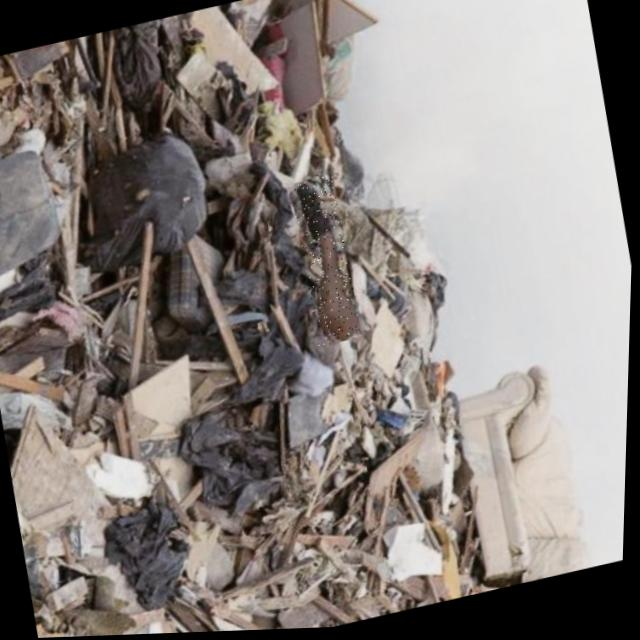Person in Rubble: (288, 175, 366, 350)
